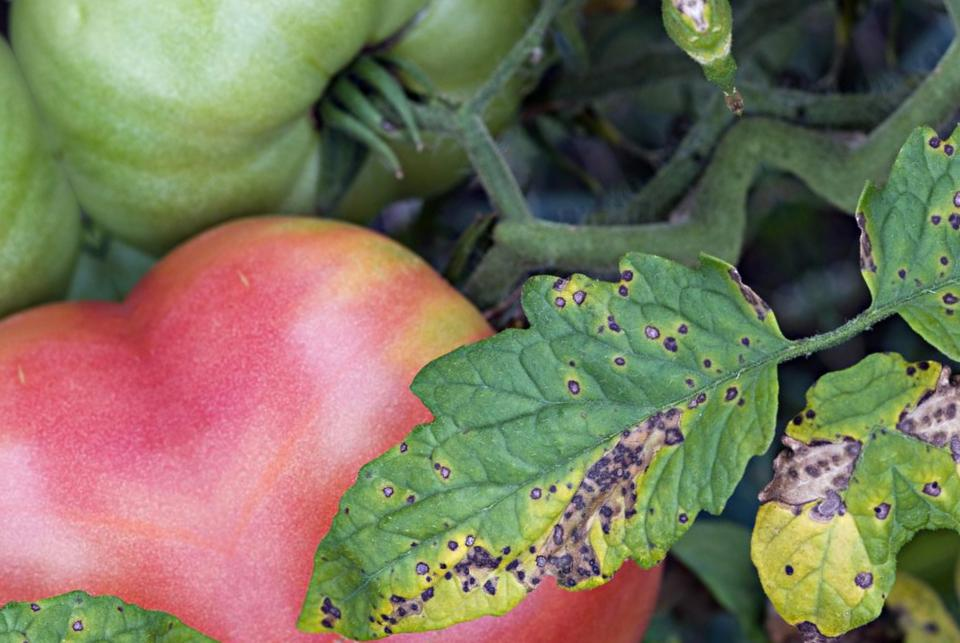Tomato Septoria leaf spot: (225, 216, 858, 643), (693, 367, 948, 643)
